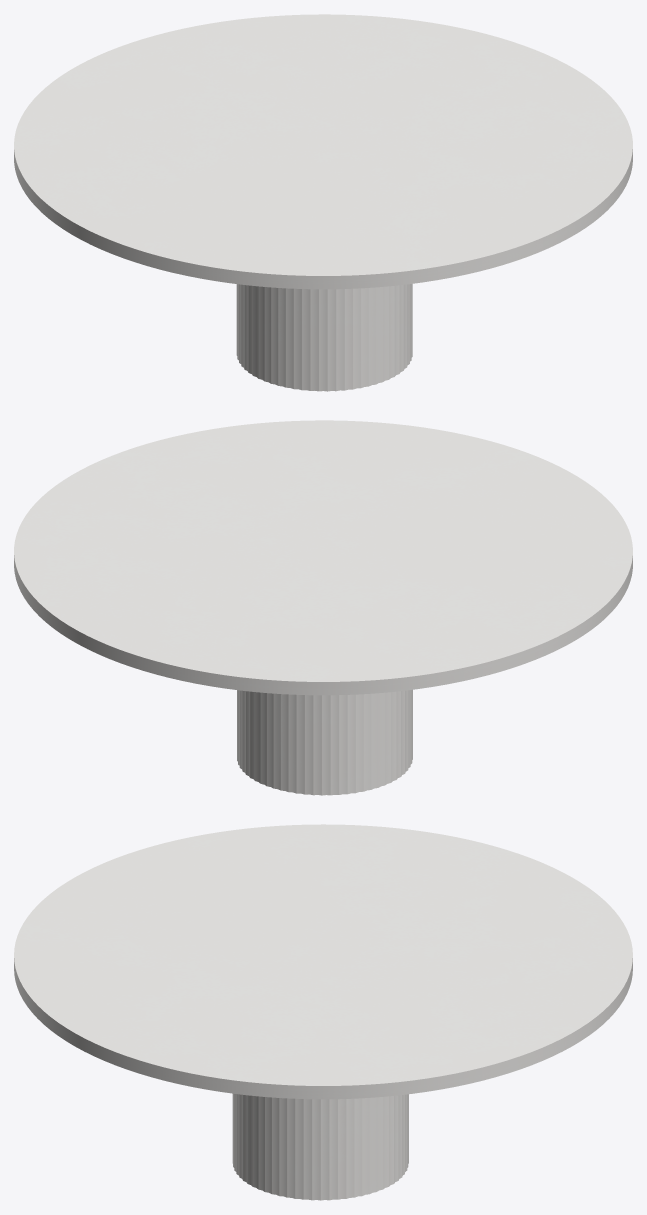
File: purewhite_round_standard_ripple.glb
The picture shows the model from 3 angles, top to bottom: view 1: azimuth 30°, elevation 25°; view 2: azimuth 150°, elevation 25°; view 3: azimuth 270°, elevation 25°; orthographic projection.
Visible parts, largest first — view 1: standard_round, ripple; view 2: standard_round, ripple; view 3: standard_round, ripple.
Part boxes in pixels (x1,y1,x2,y2): standard_round: (14,14,632,289); ripple: (236,284,412,391); standard_round: (14,420,632,695); ripple: (237,689,412,795); standard_round: (14,824,632,1099); ripple: (232,1093,408,1200).
Bounding box in the file's own units: 6.75 × 2.5 × 6.75.
Materials: 1 (1 with a texture image).
